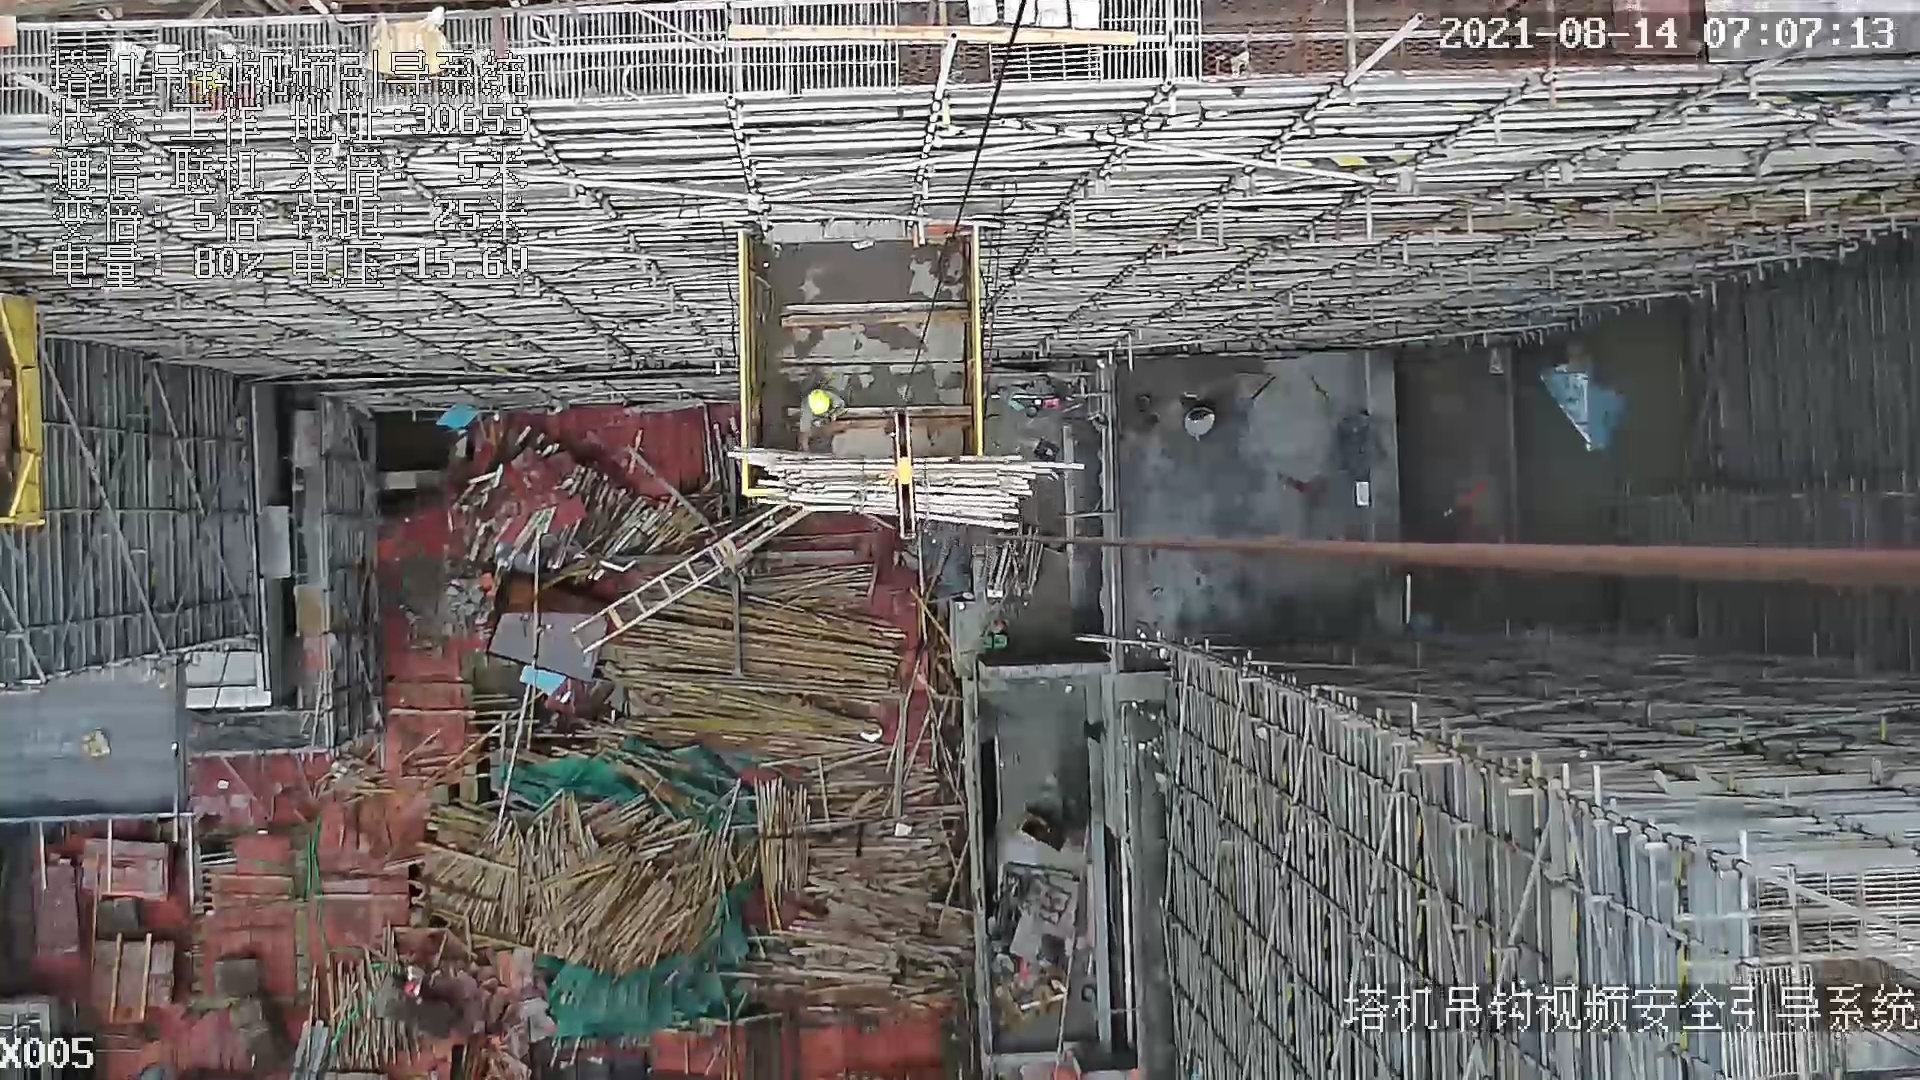helmet: (806, 387, 832, 417)
hook: (881, 408, 924, 544)
person: (796, 376, 844, 459)
